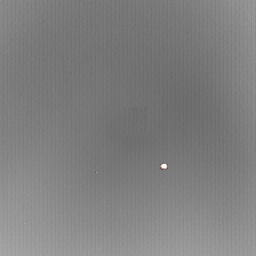Target: (159, 162, 168, 171)
